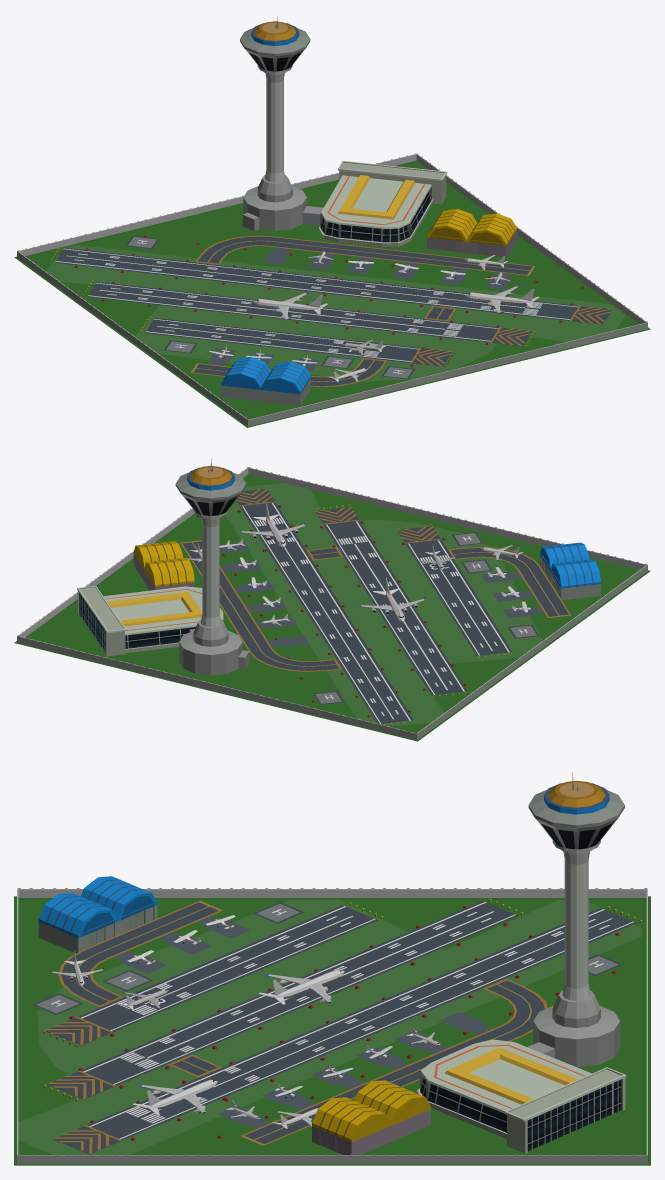
The picture shows the model from 3 angles, top to bottom: view 1: azimuth 30°, elevation 25°; view 2: azimuth 150°, elevation 25°; view 3: azimuth 270°, elevation 25°; orthographic projection. The views are drawn at different scales.
Parts seen in each view (by area): view 1: o-9; view 2: o-9; view 3: o-9.
Part boxes in pixels (<box>): o-9: <box>14,16,650,427</box>; o-9: <box>14,458,650,741</box>; o-9: <box>14,772,650,1165</box>.
Size of the model in its own units: 0.9793 by 0.4794 by 0.9793.
